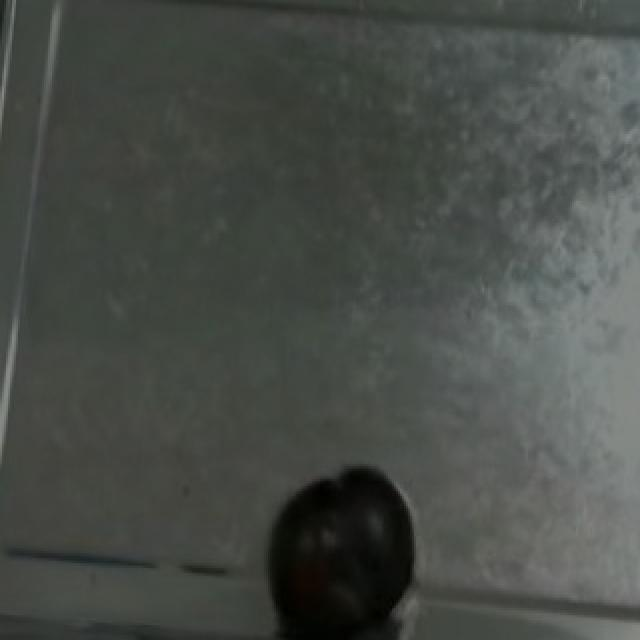Fruit: (254, 459, 428, 640)
